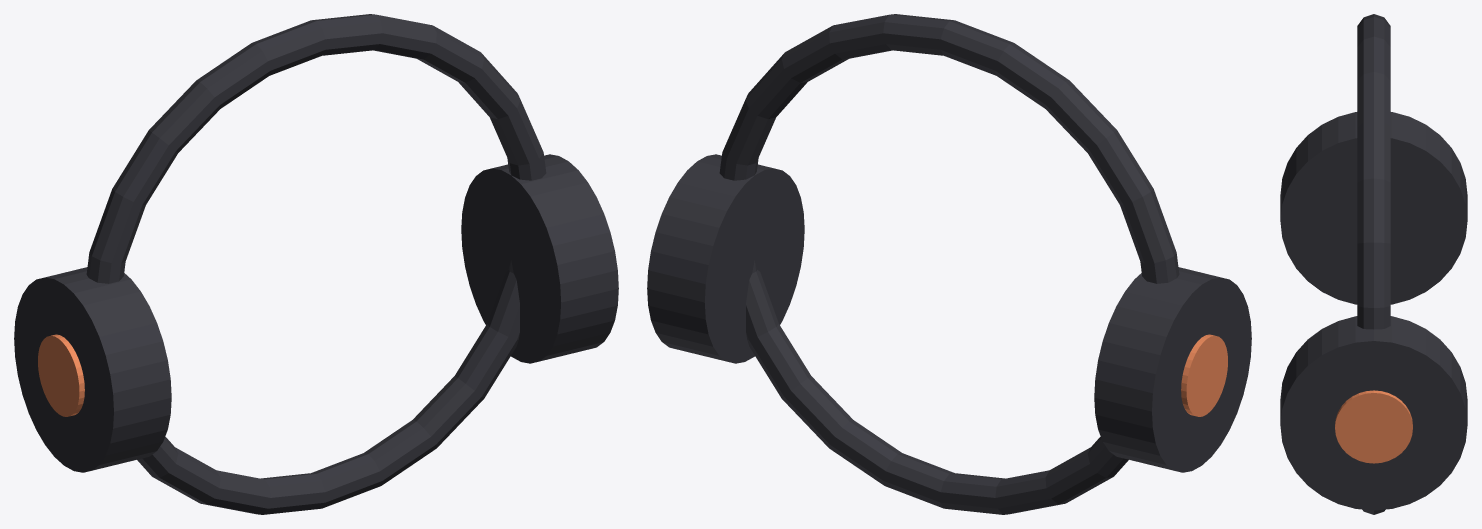
The model's file is Headphones.glb.
The picture shows the model from 3 angles, left to right: view 1: azimuth 30°, elevation 25°; view 2: azimuth 150°, elevation 25°; view 3: azimuth 270°, elevation 25°; orthographic projection. The views are drawn at different scales.
Parts seen in each view (by area): view 1: Headphones_Band, Cup_R, Cup_L, Cup_L_Accent; view 2: Headphones_Band, Cup_R, Cup_L, Cup_L_Accent; view 3: Cup_R, Cup_L, Headphones_Band, Cup_R_Accent.
Part boxes in pixels (x1,y1,x2,y2): Headphones_Band: [86, 14, 546, 514]; Cup_R: [461, 154, 618, 363]; Cup_L: [14, 267, 171, 472]; Cup_L_Accent: [38, 334, 84, 416]; Headphones_Band: [719, 14, 1179, 514]; Cup_R: [647, 154, 804, 363]; Cup_L: [1094, 267, 1251, 472]; Cup_L_Accent: [1181, 334, 1227, 416]; Cup_R: [1280, 316, 1467, 510]; Cup_L: [1280, 112, 1467, 304]; Headphones_Band: [1357, 14, 1390, 514]; Cup_R_Accent: [1335, 390, 1412, 463].
Size of the model in its own units: 1.43 by 1.29 by 0.48.
